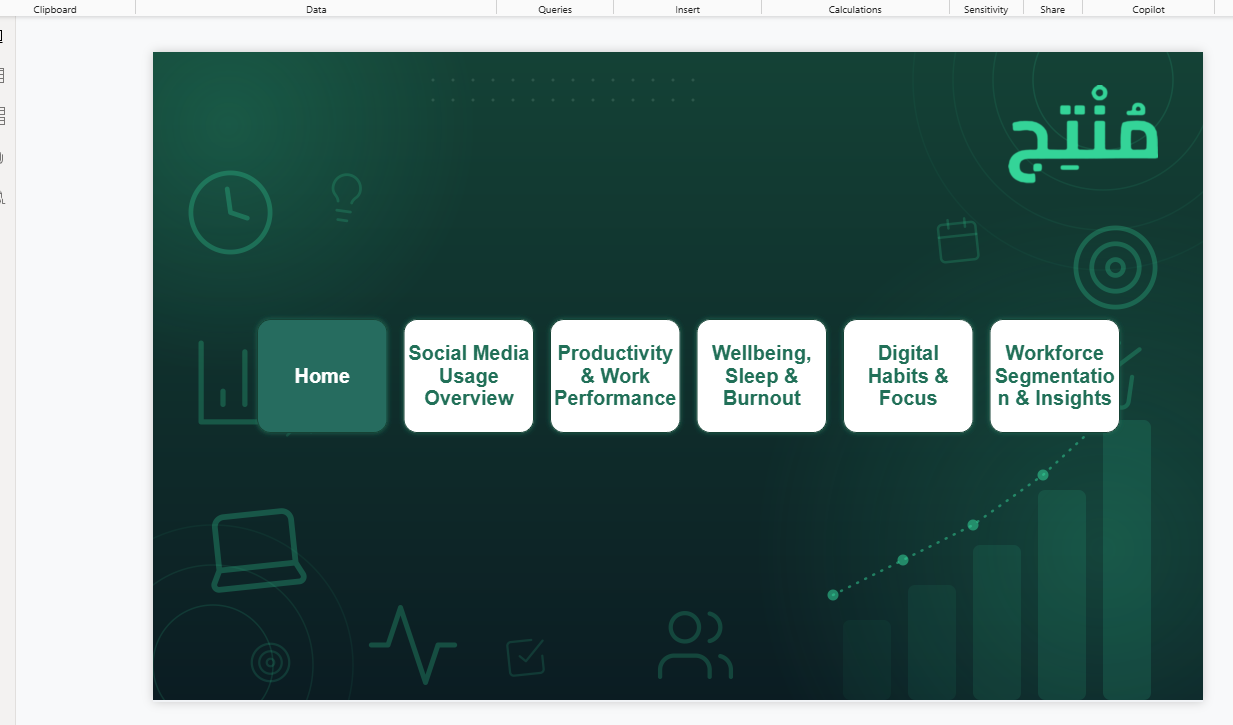

Layout of this report page (visuals, bound fields, positions):
{"tool":"powerbi","page":{"name":"Home","canvas":[2100,1300],"ordinal":0},"visuals":[{"type":"pageNavigator","box":[195,522.5,1755,252.5],"z":3001}]}

Visuals, with their boxes on the page's 2100x1300 design canvas (x1, y1, x2, y2). These are canvas units, not pixel positions in the 1233x725 screenshot, which may show the page scaled, cropped or inside an application window:
pageNavigator: [left=195, top=522, right=1950, bottom=775]
